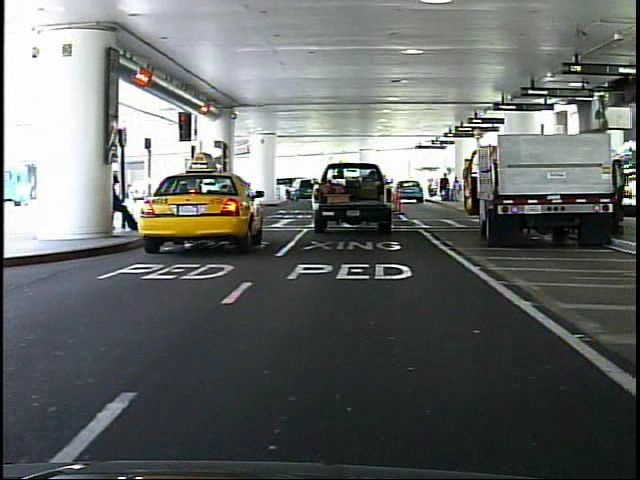person: (112, 169, 139, 234), (187, 167, 207, 216)
